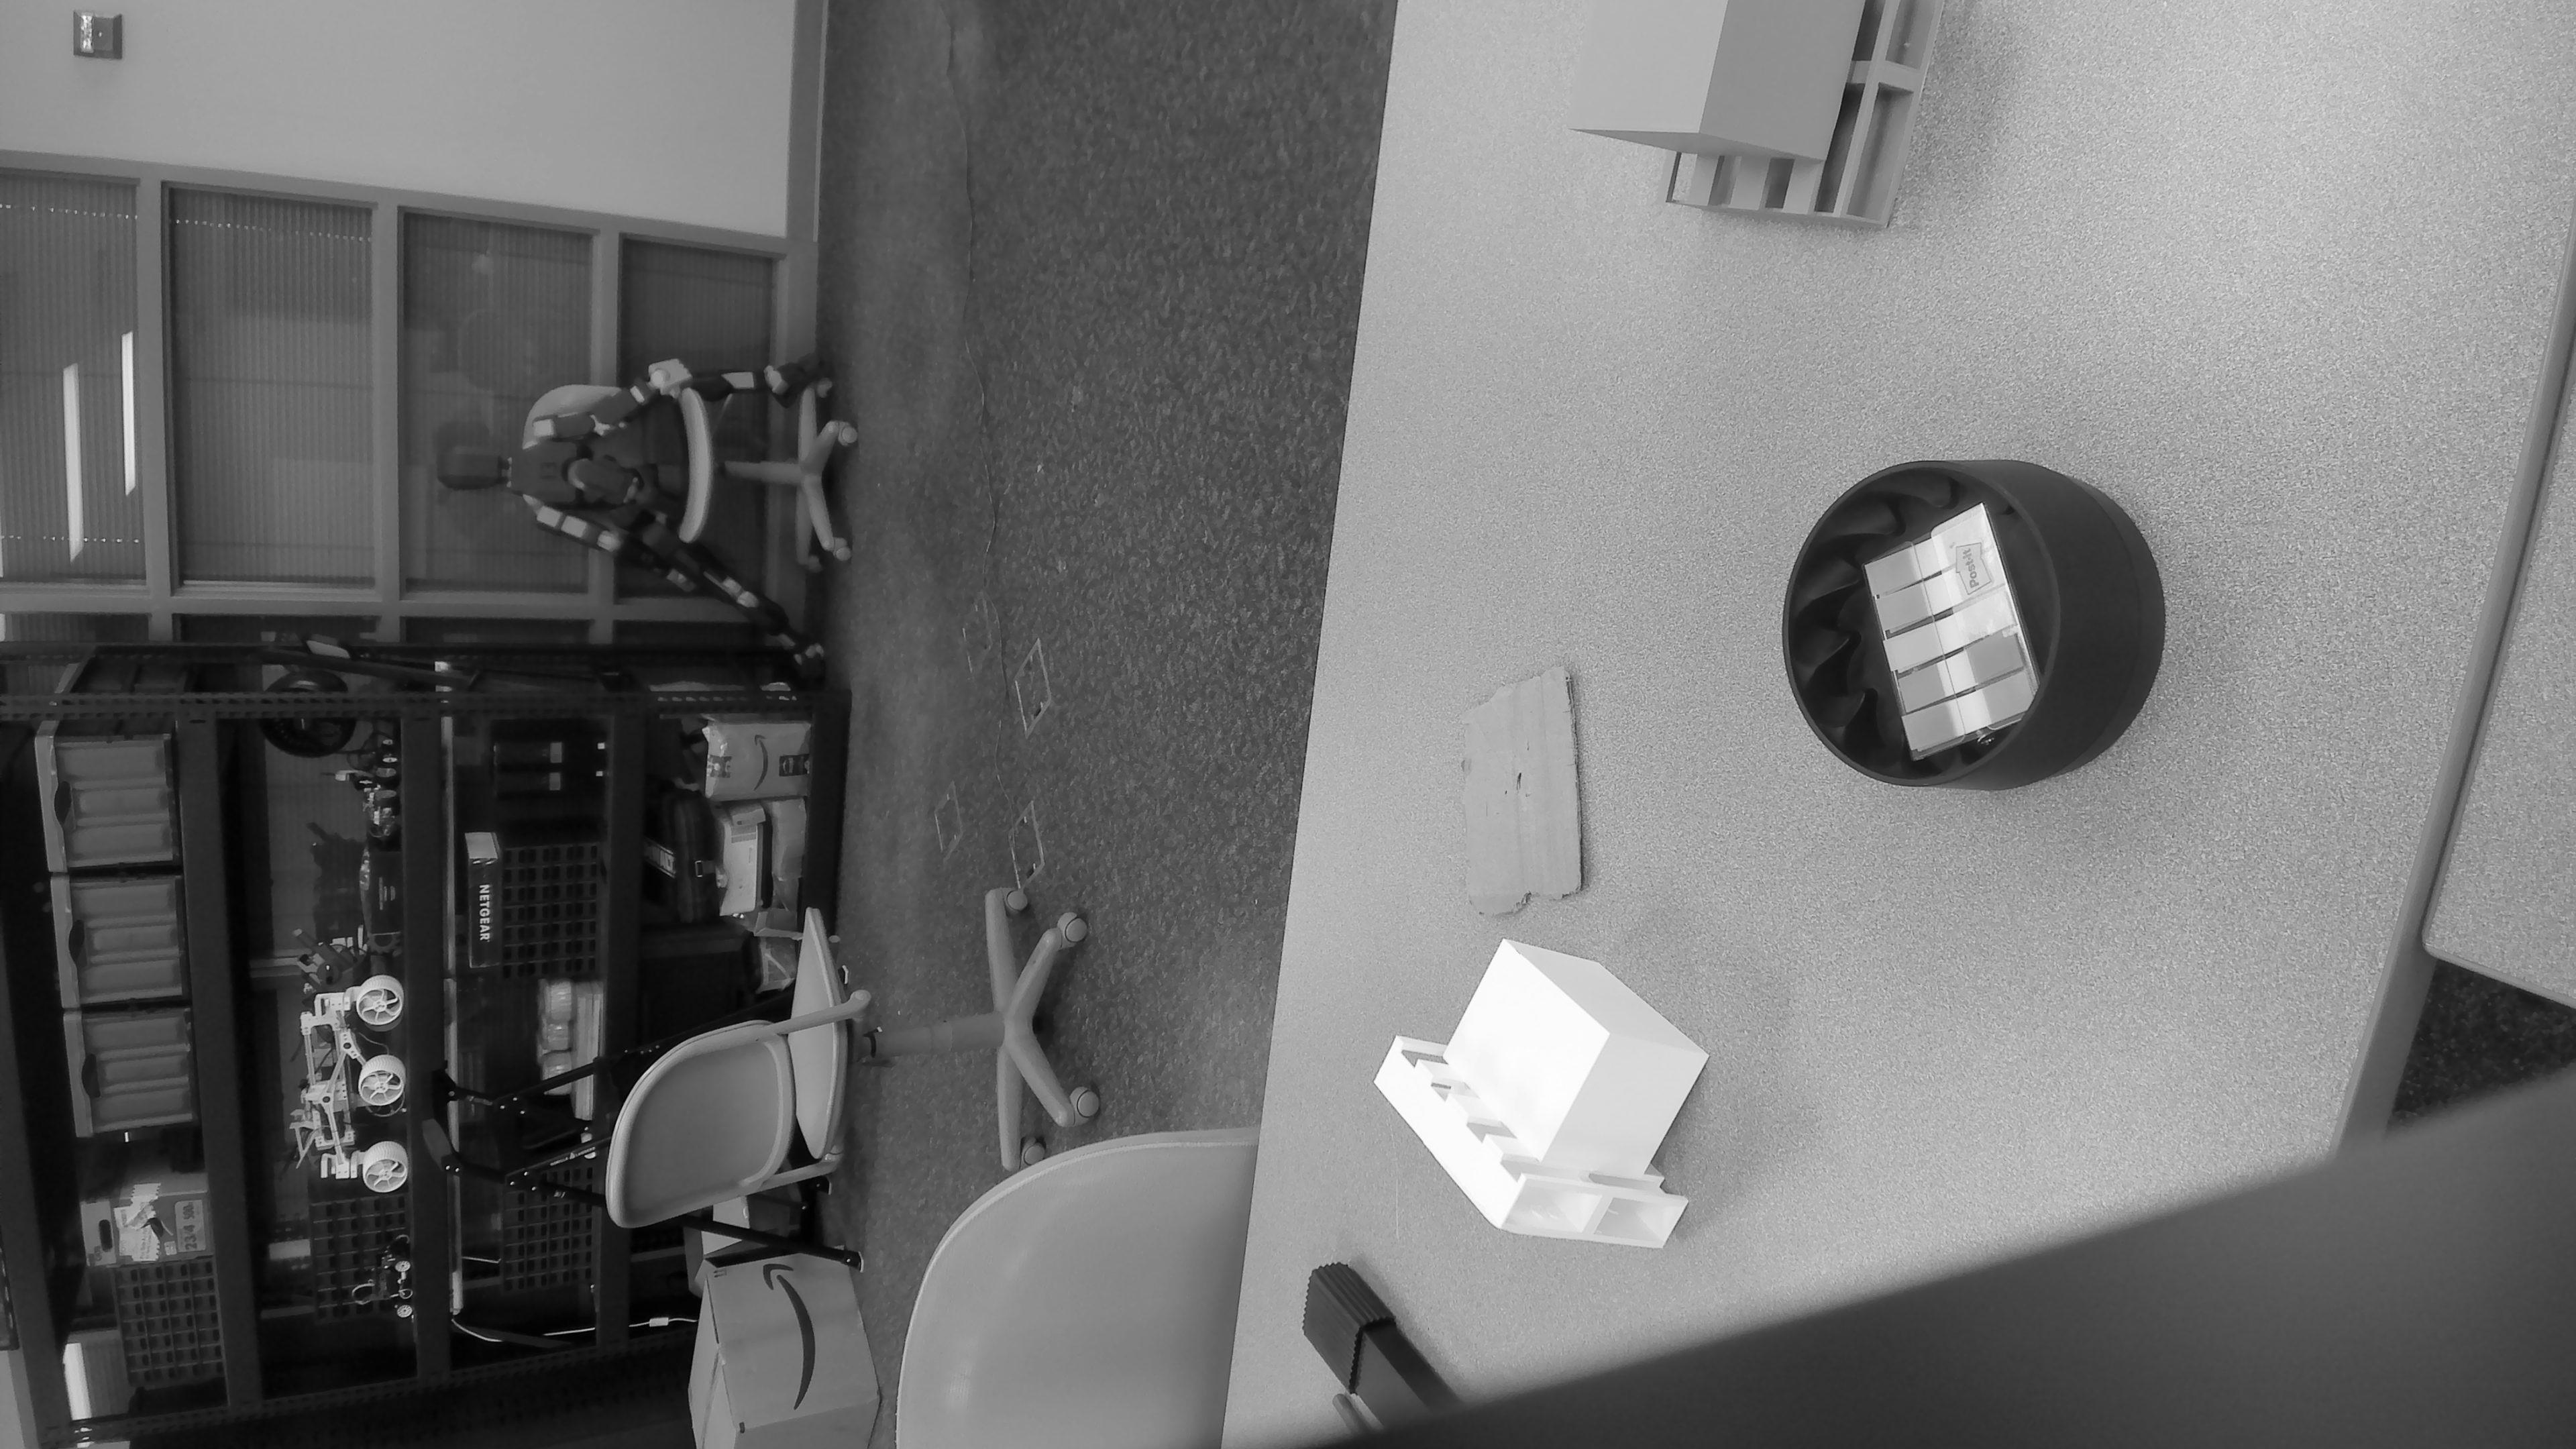grey pallet: (1555, 0, 1960, 248)
white pallet: (1361, 936, 1709, 1260)
